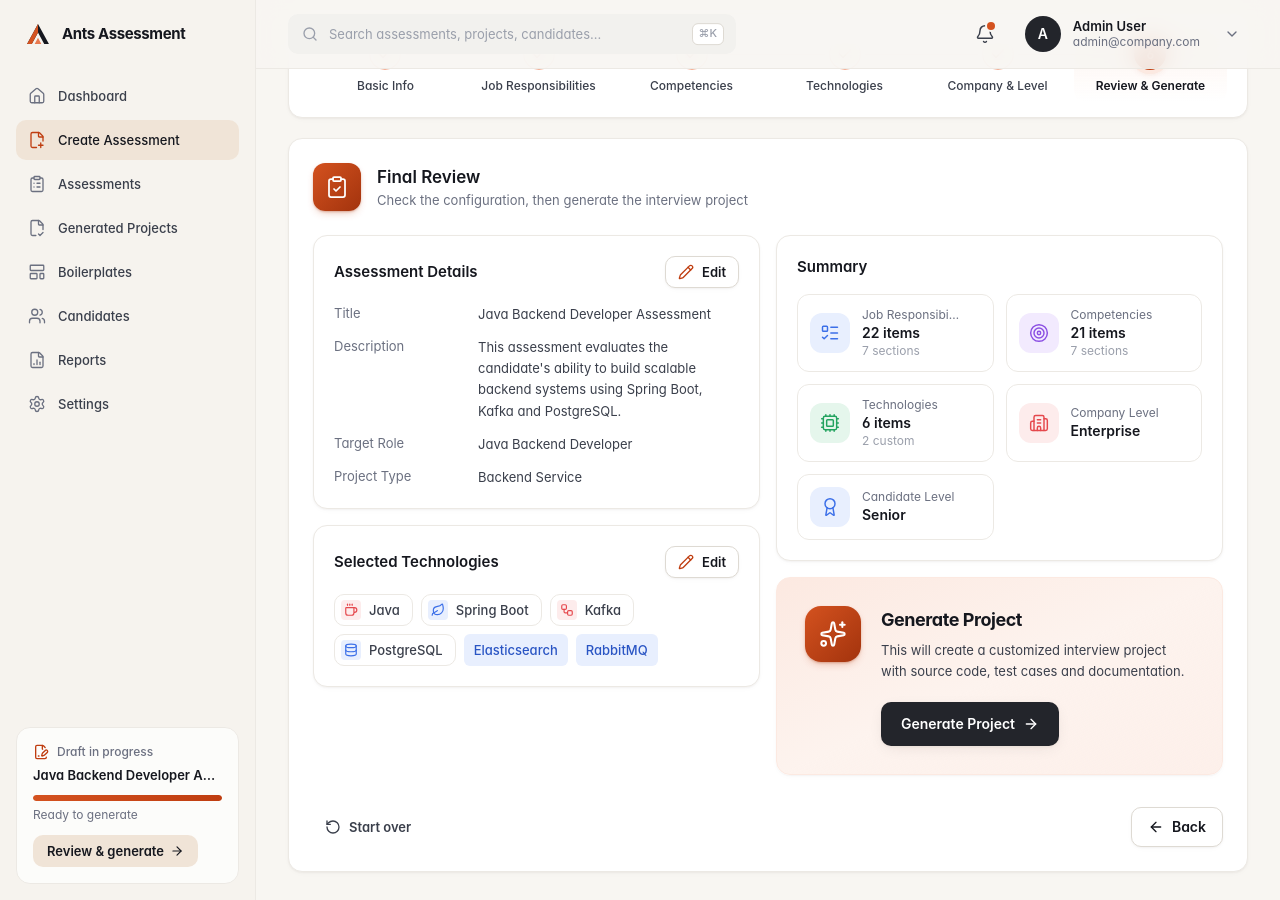
Test: Review & Generate step › starts over only after confirmation
(page scrolled)
Click the button "Start over": (368, 827) left=313, top=811, right=423, bottom=843
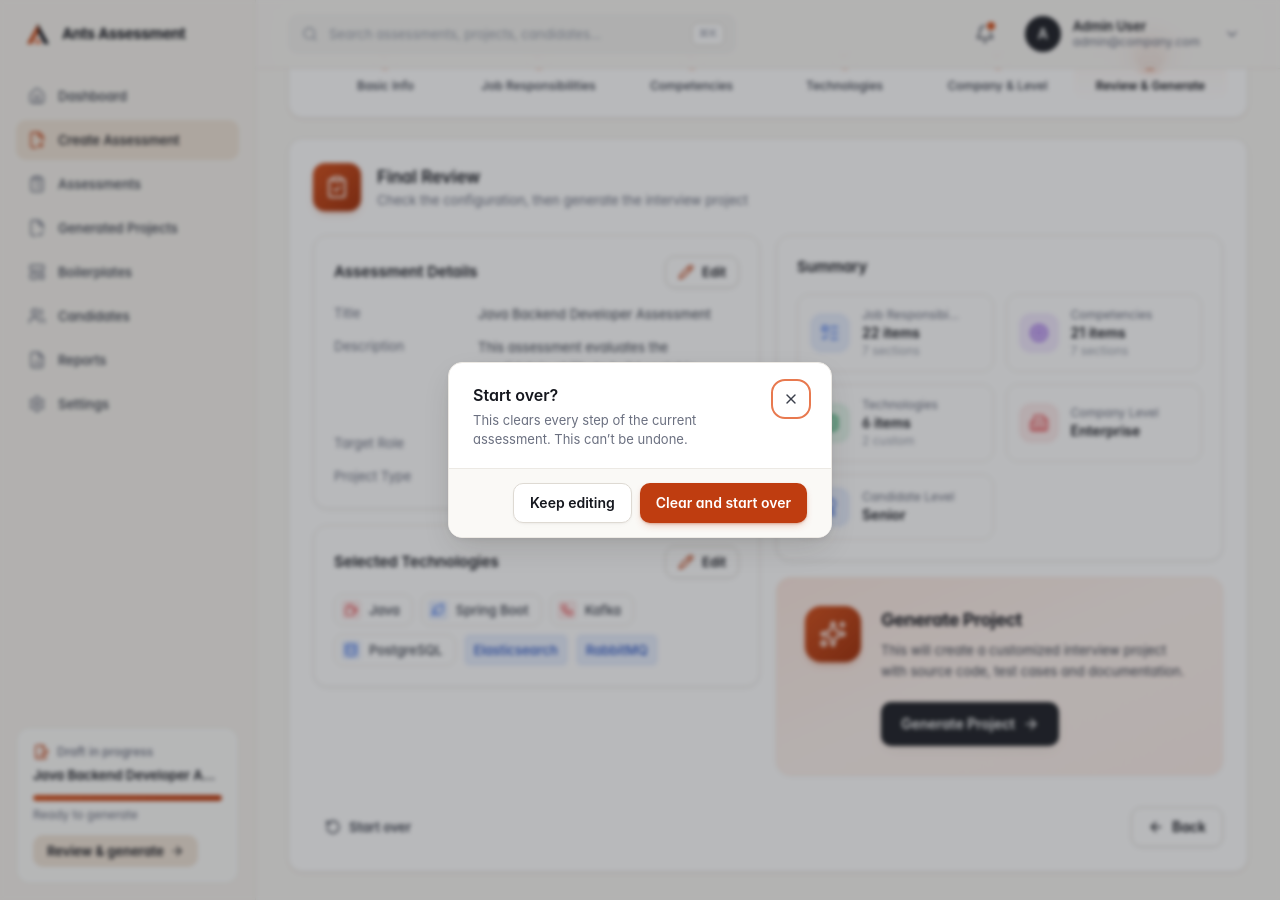
Click the button "Keep editing": (572, 503) left=513, top=483, right=632, bottom=523
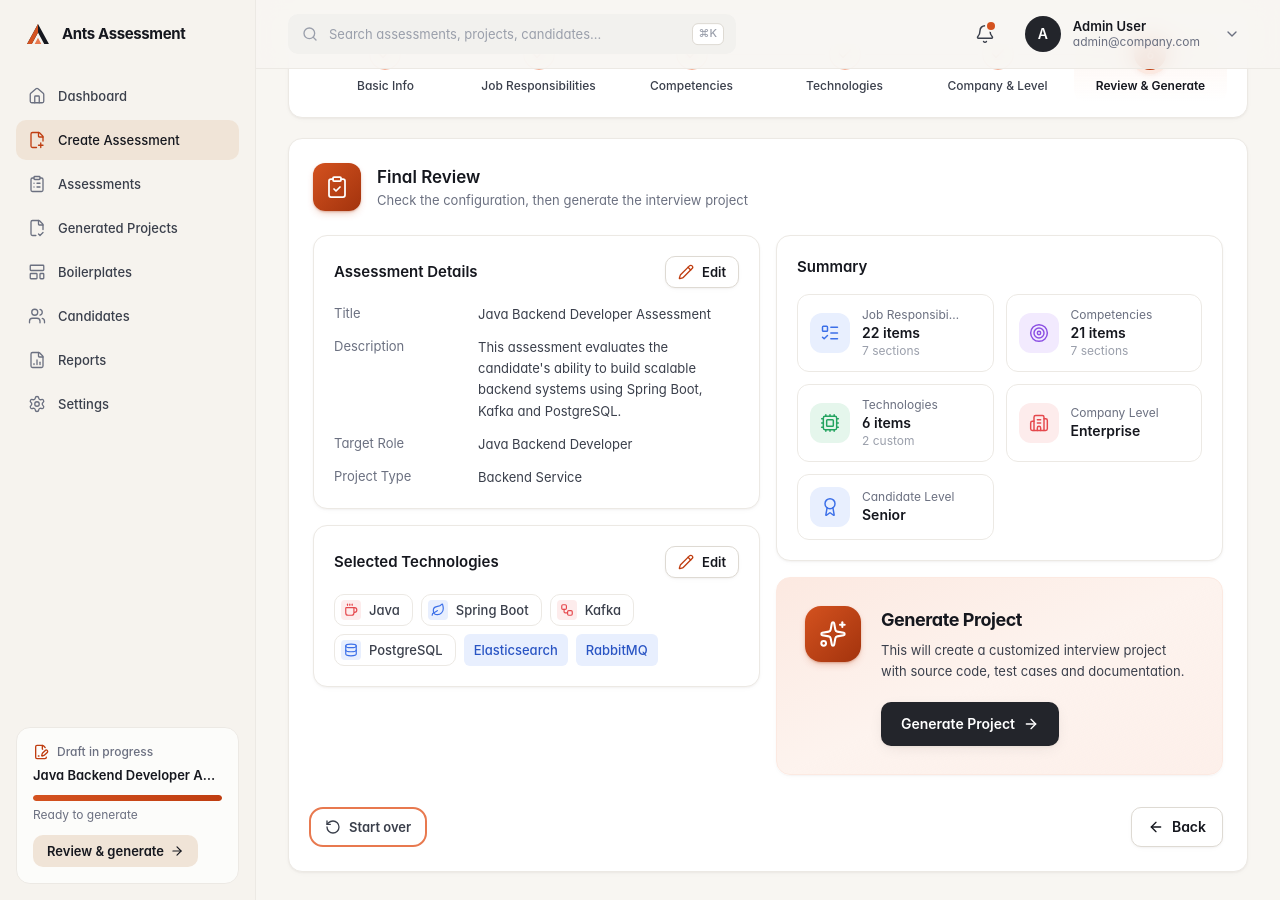
Click the button "Start over": (368, 827) left=313, top=811, right=423, bottom=843
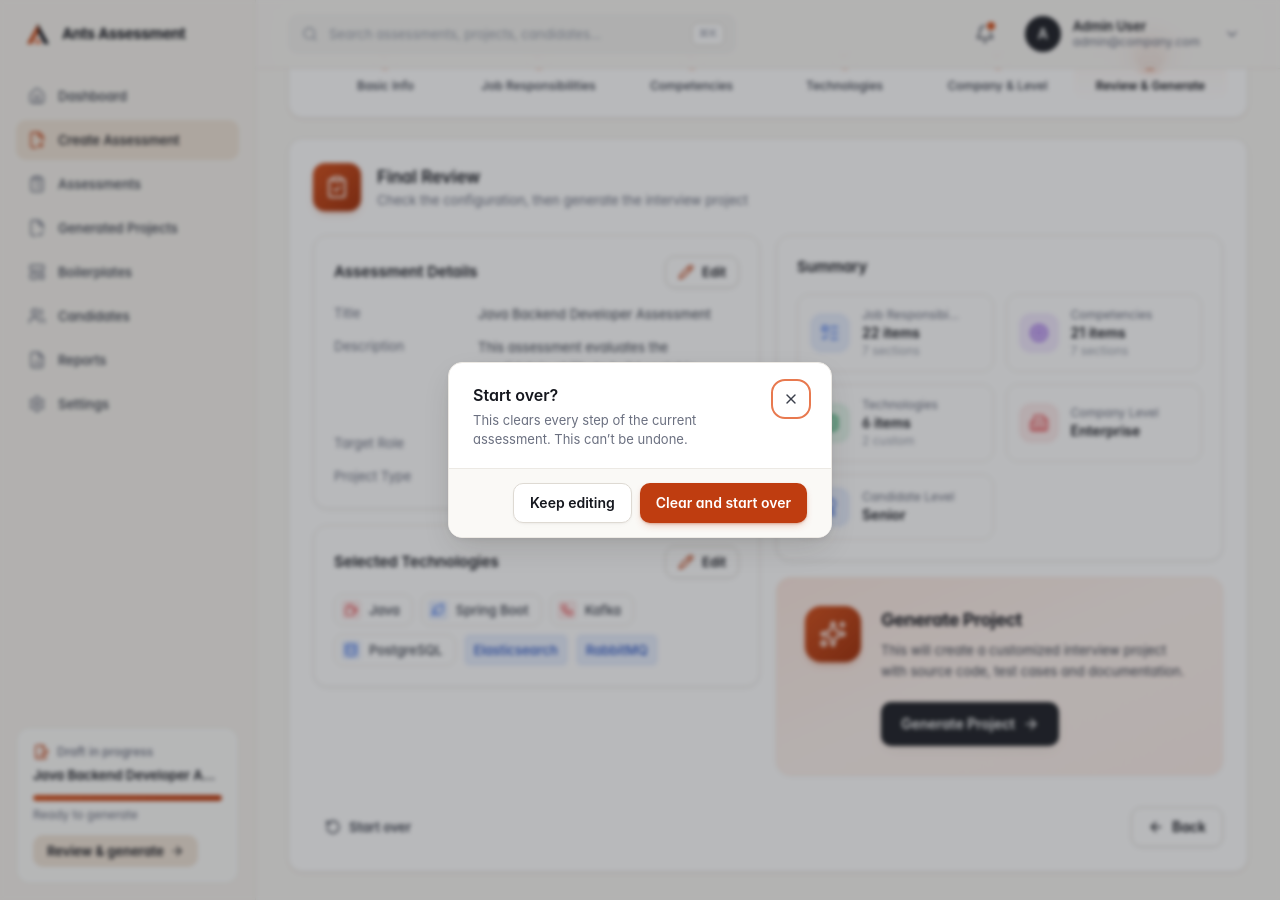
Click the button "Clear and start over": (723, 503) left=640, top=483, right=807, bottom=523
(page scrolled)
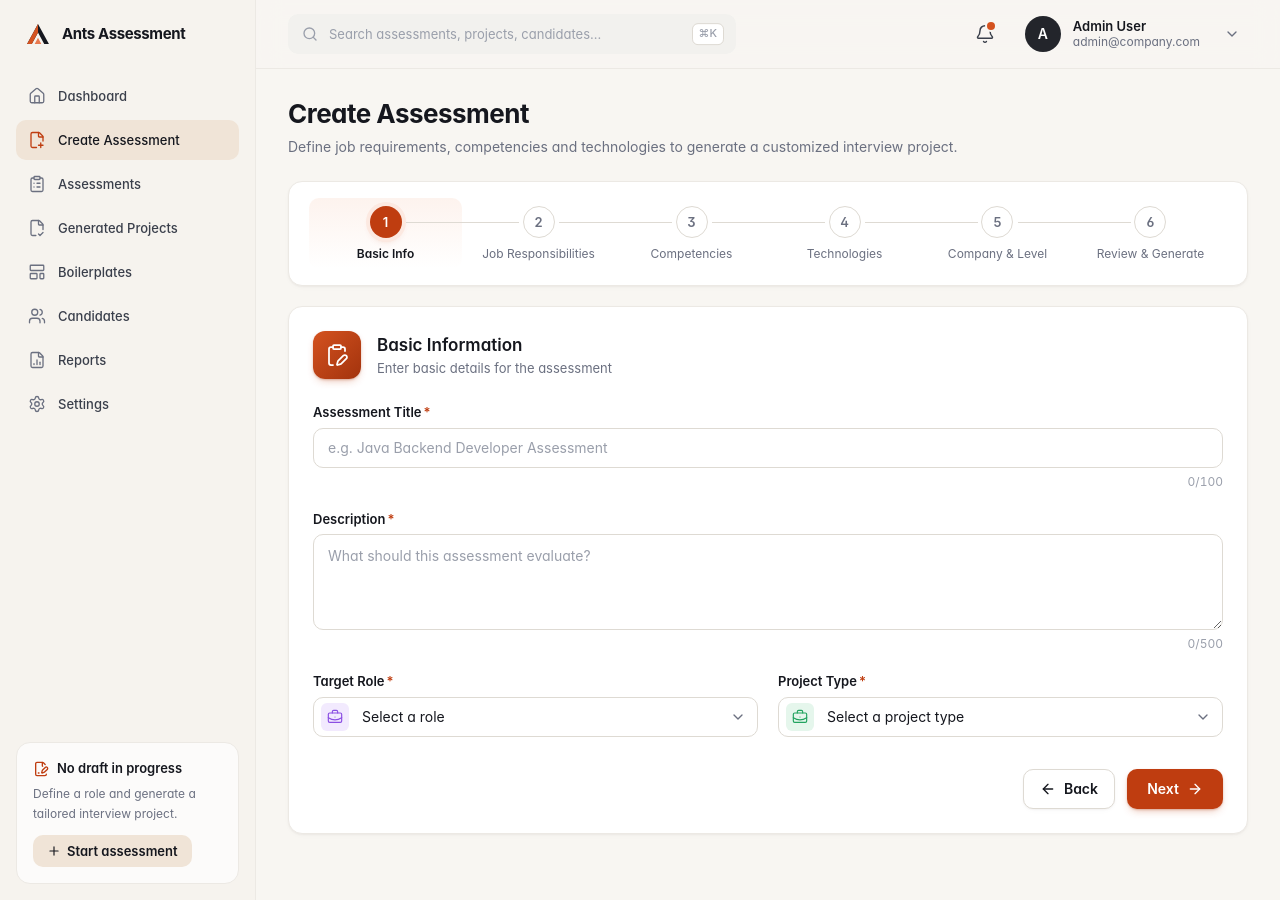
expect the field labelled "Assessment Title*" is empty: met, box left=313, top=428, right=1223, bottom=468
